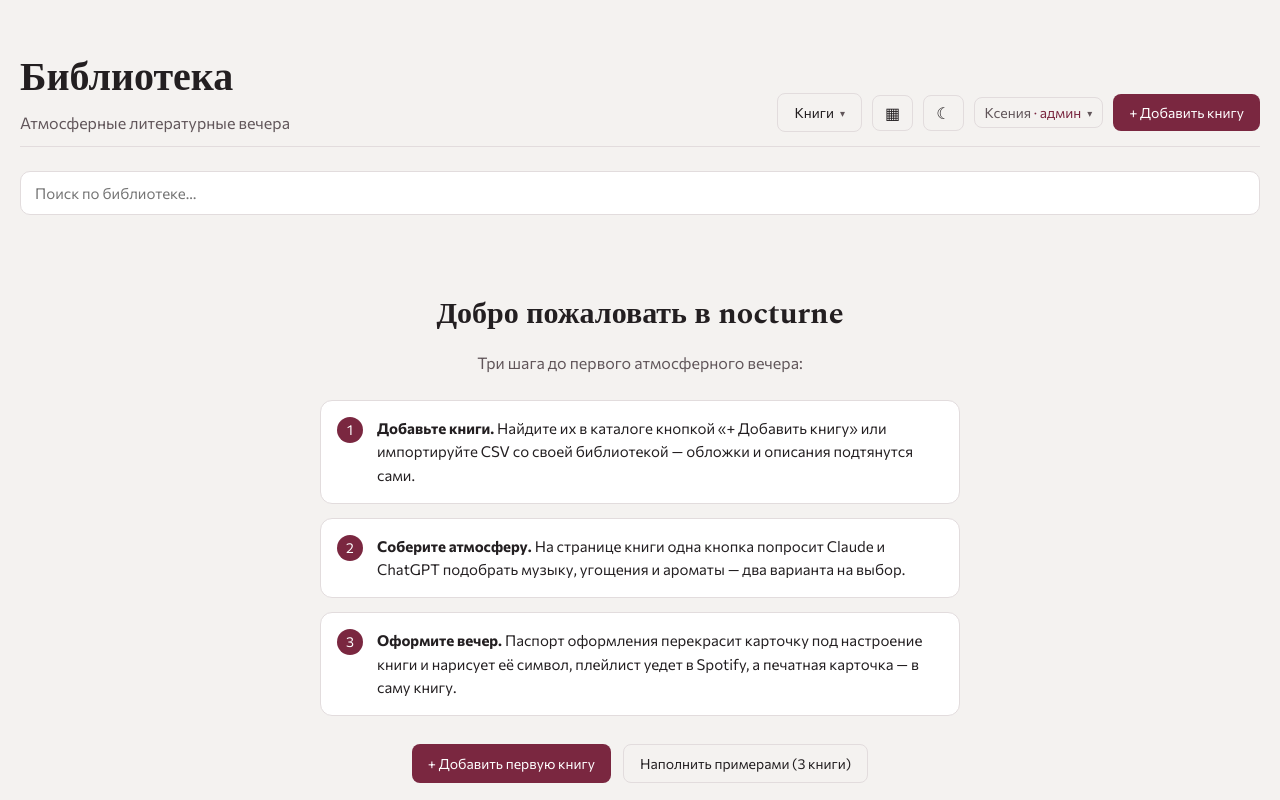
Scenario: пустая библиотека показывает онбординг, примеры наполняют полки
The width and height of the screenshot is (1280, 800).
expect the heading "Добро пожаловать в nocturne" is shown: met, box 436,291 -> 844,337
Click the button "Наполнить примерами (3 книги)": (746, 764) 623,744 -> 868,783
(page scrolled)
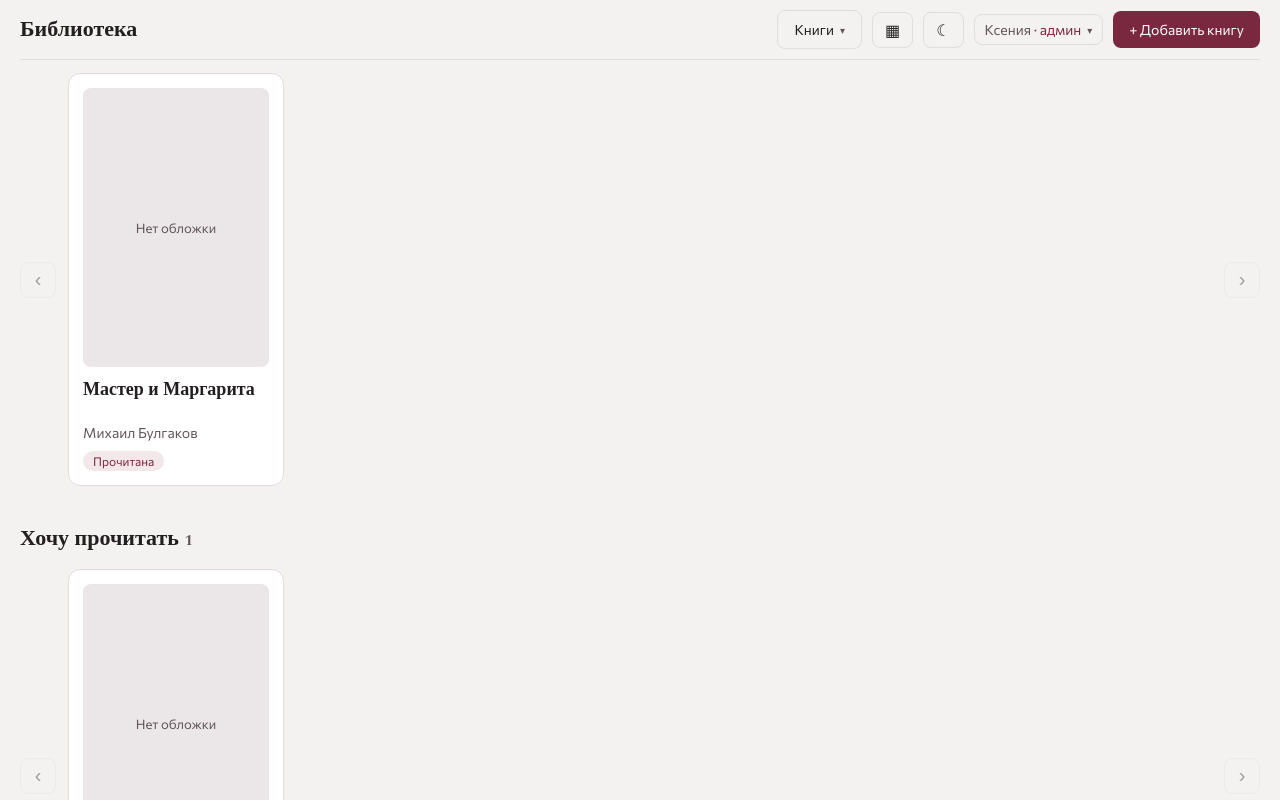
expect the heading "Мастер и Маргарита" is shown: met, box 83,379 -> 269,422
expect the heading "Добро пожаловать в nocturne" is gone: met
